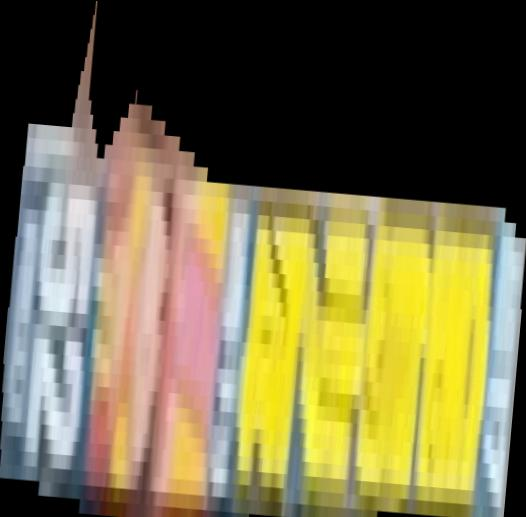flat: (1, 1, 526, 517)
